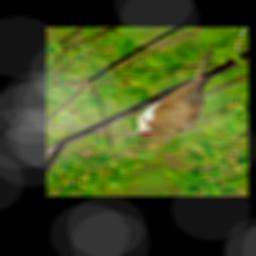Cuckoo: (126, 42, 216, 140)
